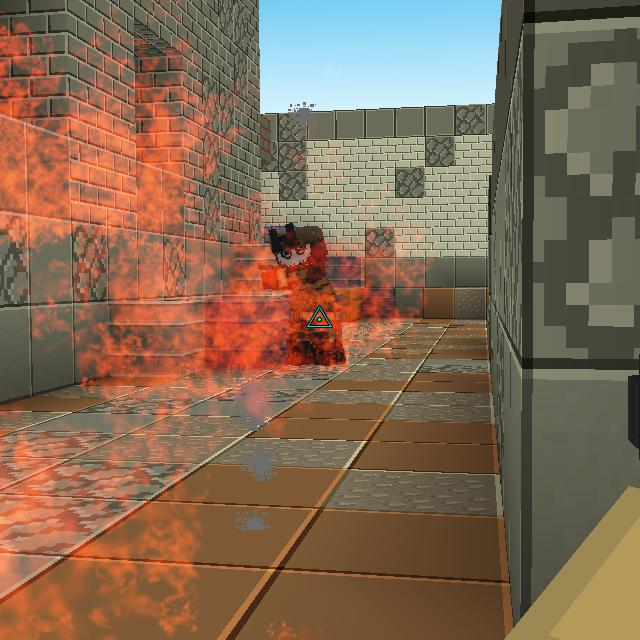enemy: (256, 222, 348, 367)
